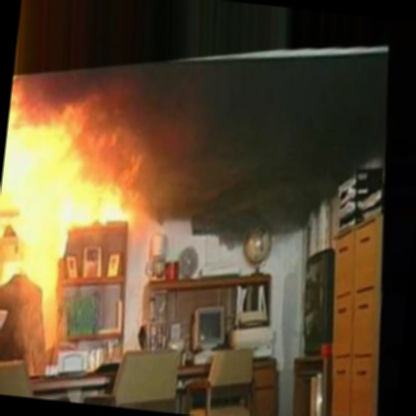fire: (0, 61, 172, 325)
